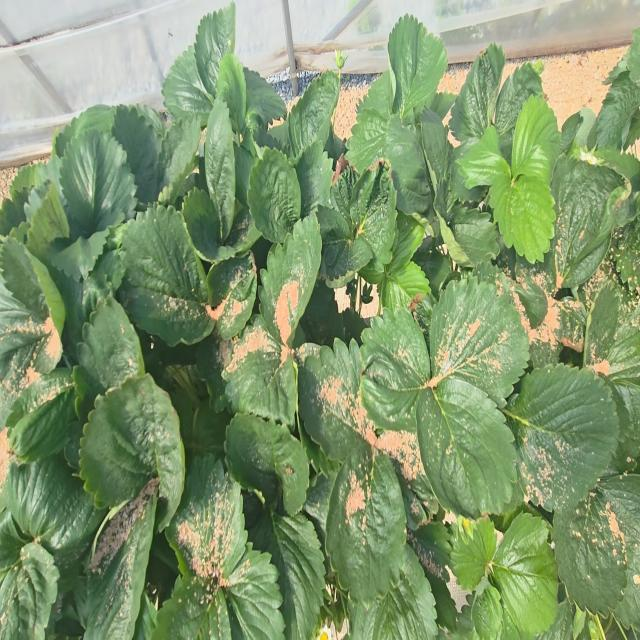Flowers: (316, 626, 331, 639)
Leaves: (503, 363, 619, 510), (80, 373, 184, 520), (416, 379, 517, 519), (552, 475, 640, 630), (6, 453, 104, 592), (120, 206, 214, 345), (80, 480, 159, 639), (551, 149, 638, 289), (326, 449, 406, 601), (430, 279, 529, 400), (244, 493, 326, 639), (166, 455, 247, 579), (299, 338, 375, 460), (73, 295, 146, 420), (360, 309, 430, 431), (225, 412, 309, 513), (59, 129, 136, 238), (490, 513, 558, 635), (222, 315, 297, 422), (350, 548, 438, 639), (259, 216, 321, 345), (5, 368, 76, 462), (387, 15, 447, 120), (221, 543, 285, 639), (584, 281, 640, 385), (0, 542, 59, 639), (449, 44, 505, 143), (408, 521, 458, 630), (495, 175, 555, 263), (436, 185, 500, 265), (383, 116, 433, 217), (151, 576, 231, 639), (350, 162, 396, 271), (494, 62, 543, 162), (248, 149, 300, 243), (113, 105, 162, 204), (288, 70, 340, 159), (162, 44, 217, 126), (317, 204, 372, 286), (511, 95, 561, 185), (204, 100, 235, 244), (207, 251, 257, 340), (182, 188, 235, 263), (158, 115, 201, 203), (194, 4, 234, 98), (457, 125, 511, 189), (450, 517, 497, 590), (345, 107, 389, 174), (296, 140, 333, 217), (244, 68, 286, 130), (379, 262, 430, 312), (386, 212, 424, 275), (421, 109, 451, 185), (357, 71, 393, 123), (472, 583, 503, 639)
Strawberries: (462, 519, 472, 532)
